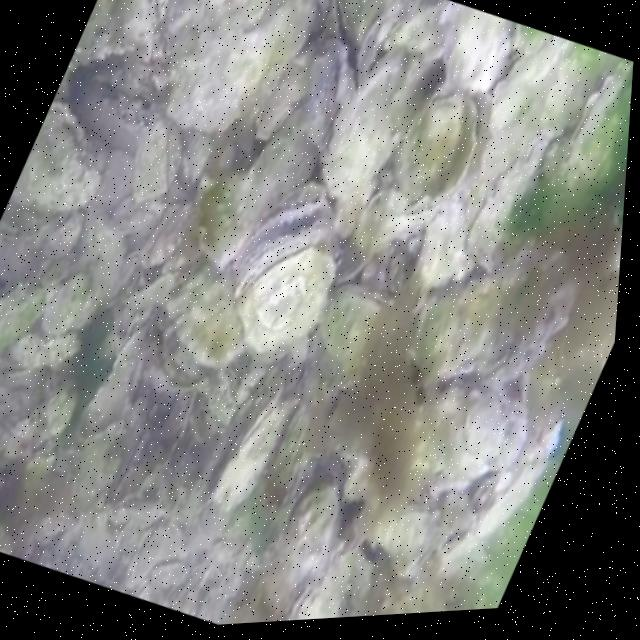Oyster-Closed: (216, 390, 298, 510), (570, 62, 633, 182), (301, 37, 355, 160), (321, 284, 396, 369), (71, 0, 166, 66), (367, 507, 443, 576), (288, 550, 351, 620), (254, 74, 309, 140), (25, 451, 56, 478)
Oyster-Indeterminate: (401, 252, 571, 377), (168, 0, 316, 135), (196, 109, 319, 264), (320, 46, 408, 200), (469, 136, 559, 270), (263, 488, 343, 612), (443, 1, 512, 92), (474, 458, 543, 537), (0, 274, 71, 350), (132, 116, 183, 201), (542, 132, 595, 199), (142, 202, 194, 264), (109, 186, 162, 238), (43, 273, 90, 331), (465, 395, 504, 460), (42, 216, 82, 262)
Oyster-Open: (233, 187, 338, 355), (158, 260, 243, 390), (398, 84, 493, 200), (8, 100, 97, 217), (325, 0, 389, 87), (439, 493, 479, 551), (466, 473, 498, 514)
